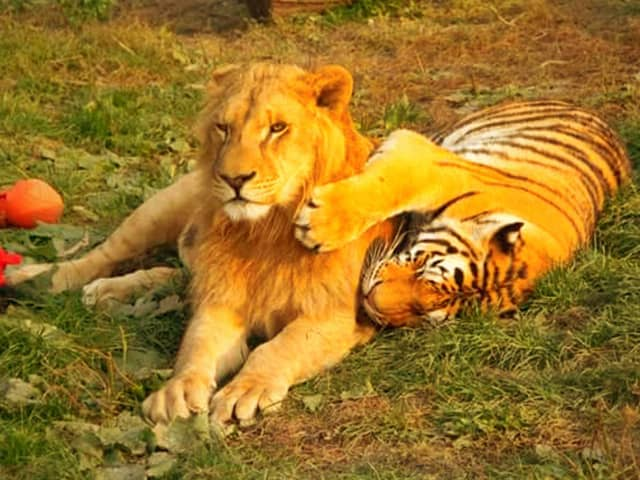lion: (92, 51, 412, 423)
tiger: (350, 89, 632, 340)
